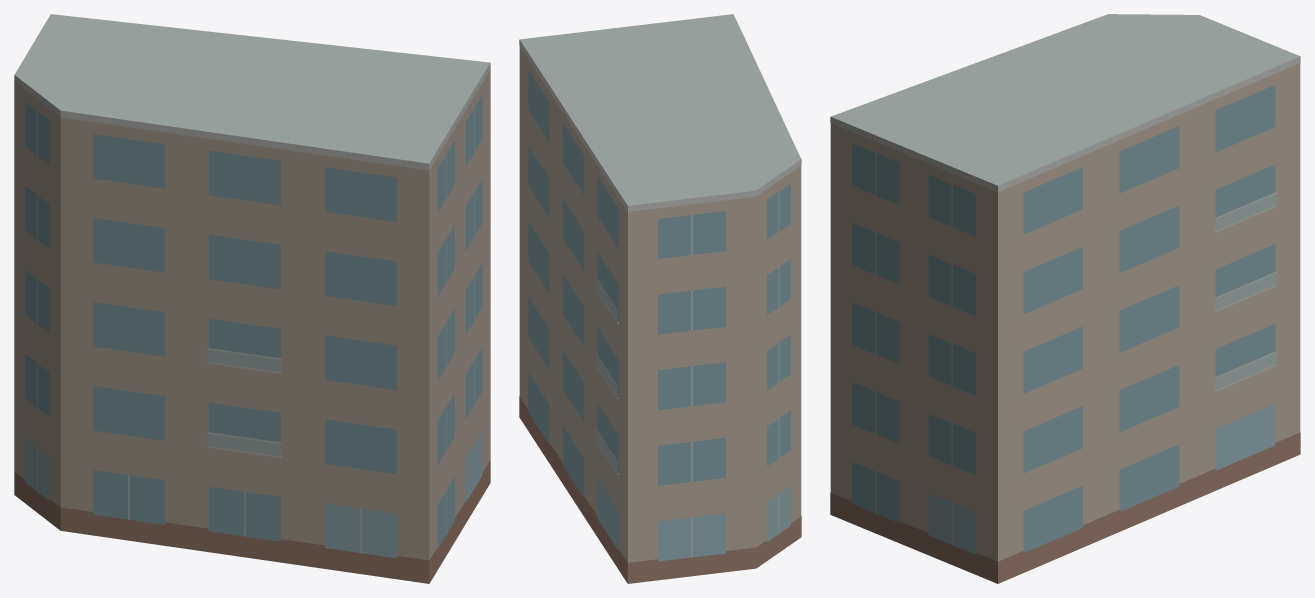
File: survey-upis-32843751.glb
The picture shows the model from 3 angles, left to right: view 1: azimuth 30°, elevation 25°; view 2: azimuth 150°, elevation 25°; view 3: azimuth 270°, elevation 25°; orthographic projection. The views are drawn at different scales.
Parts seen in each view (by area): view 1: survey-upis-32843751.tmp; view 2: survey-upis-32843751.tmp; view 3: survey-upis-32843751.tmp.
Part boxes in pixels (<box>): survey-upis-32843751.tmp: <box>14,14,490,583</box>; survey-upis-32843751.tmp: <box>519,14,801,583</box>; survey-upis-32843751.tmp: <box>830,14,1300,583</box>.
Bounding box in the file's own units: 14.03 × 15.15 × 16.22.
